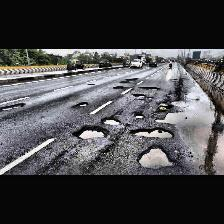pothole: (138, 144, 176, 168), (130, 127, 174, 138), (74, 126, 108, 138), (154, 111, 182, 123), (1, 102, 25, 110), (120, 76, 138, 84), (102, 117, 120, 125), (140, 86, 160, 90), (76, 102, 88, 106), (113, 85, 124, 89), (135, 114, 145, 118), (134, 94, 146, 96)
